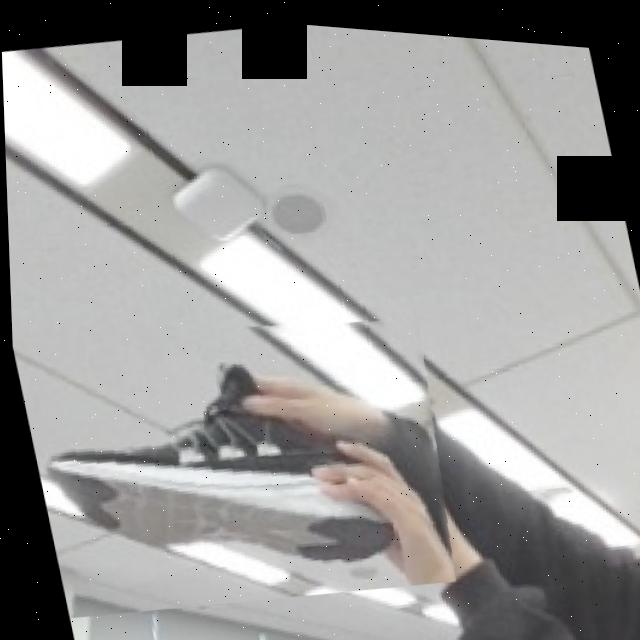shoe: (8, 265, 470, 640)
